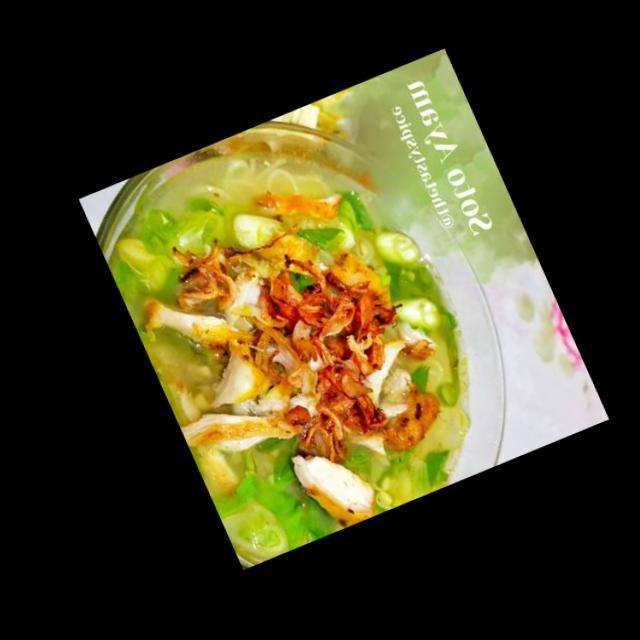Soto: (105, 120, 471, 565)
